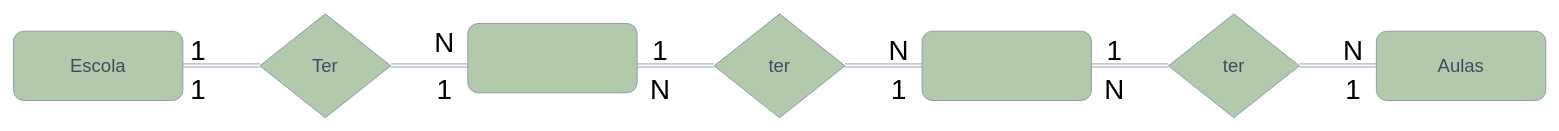
Some shapes in this 1559 by 131 pixel diagram are drawn without their labels. Here are the shapes that lost their labels. From the top down, the centre of each, then its label:
point 552,58: Turmas
point 1006,65: professores
